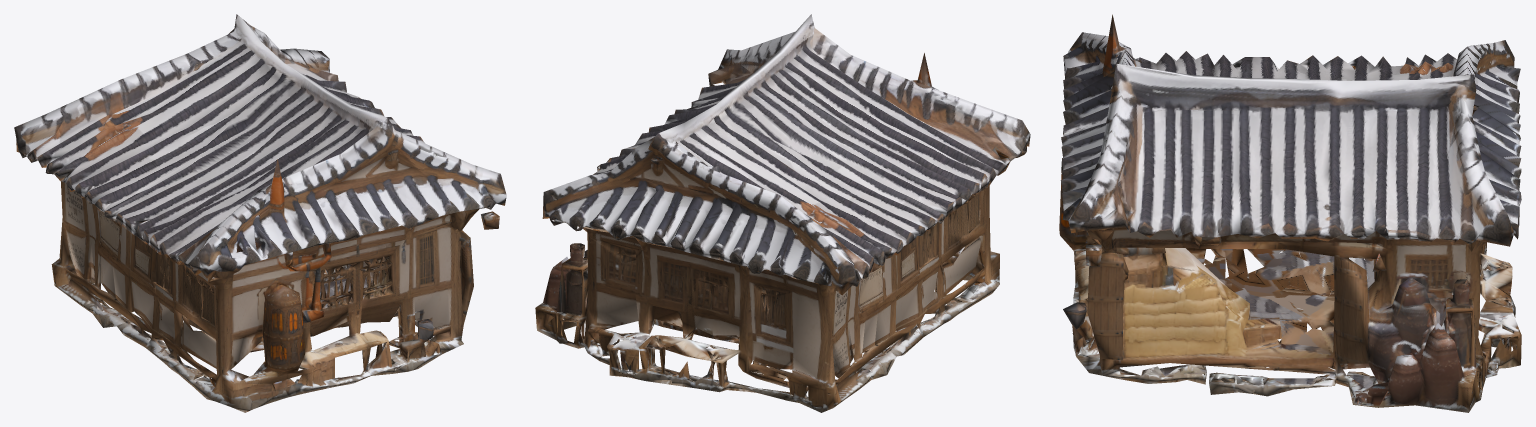
The model's file is PR_Shop_RiceOnggi.fbx.
The picture shows the model from 3 angles, left to right: view 1: azimuth 30°, elevation 25°; view 2: azimuth 150°, elevation 25°; view 3: azimuth 270°, elevation 25°; orthographic projection. The views are drawn at different scales.
Visible parts, largest first — view 1: texture_mapping; view 2: texture_mapping; view 3: texture_mapping.
Part boxes in pixels (x1,y1,x2,y2): texture_mapping: (14,14,506,412); texture_mapping: (535,14,1030,412); texture_mapping: (1059,14,1521,412).
Size of the model in its own units: 0.9665 by 0.9904 by 0.6782.
Materials: 1 (1 with a texture image).
